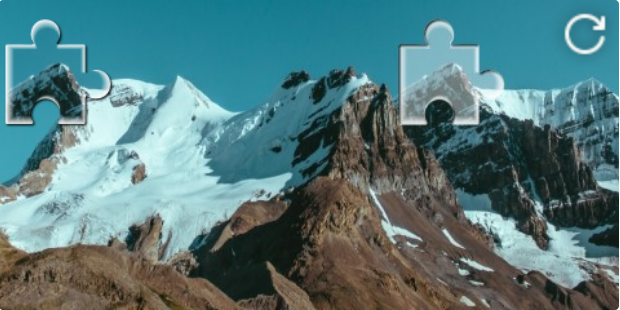target: (398, 20, 504, 125)
